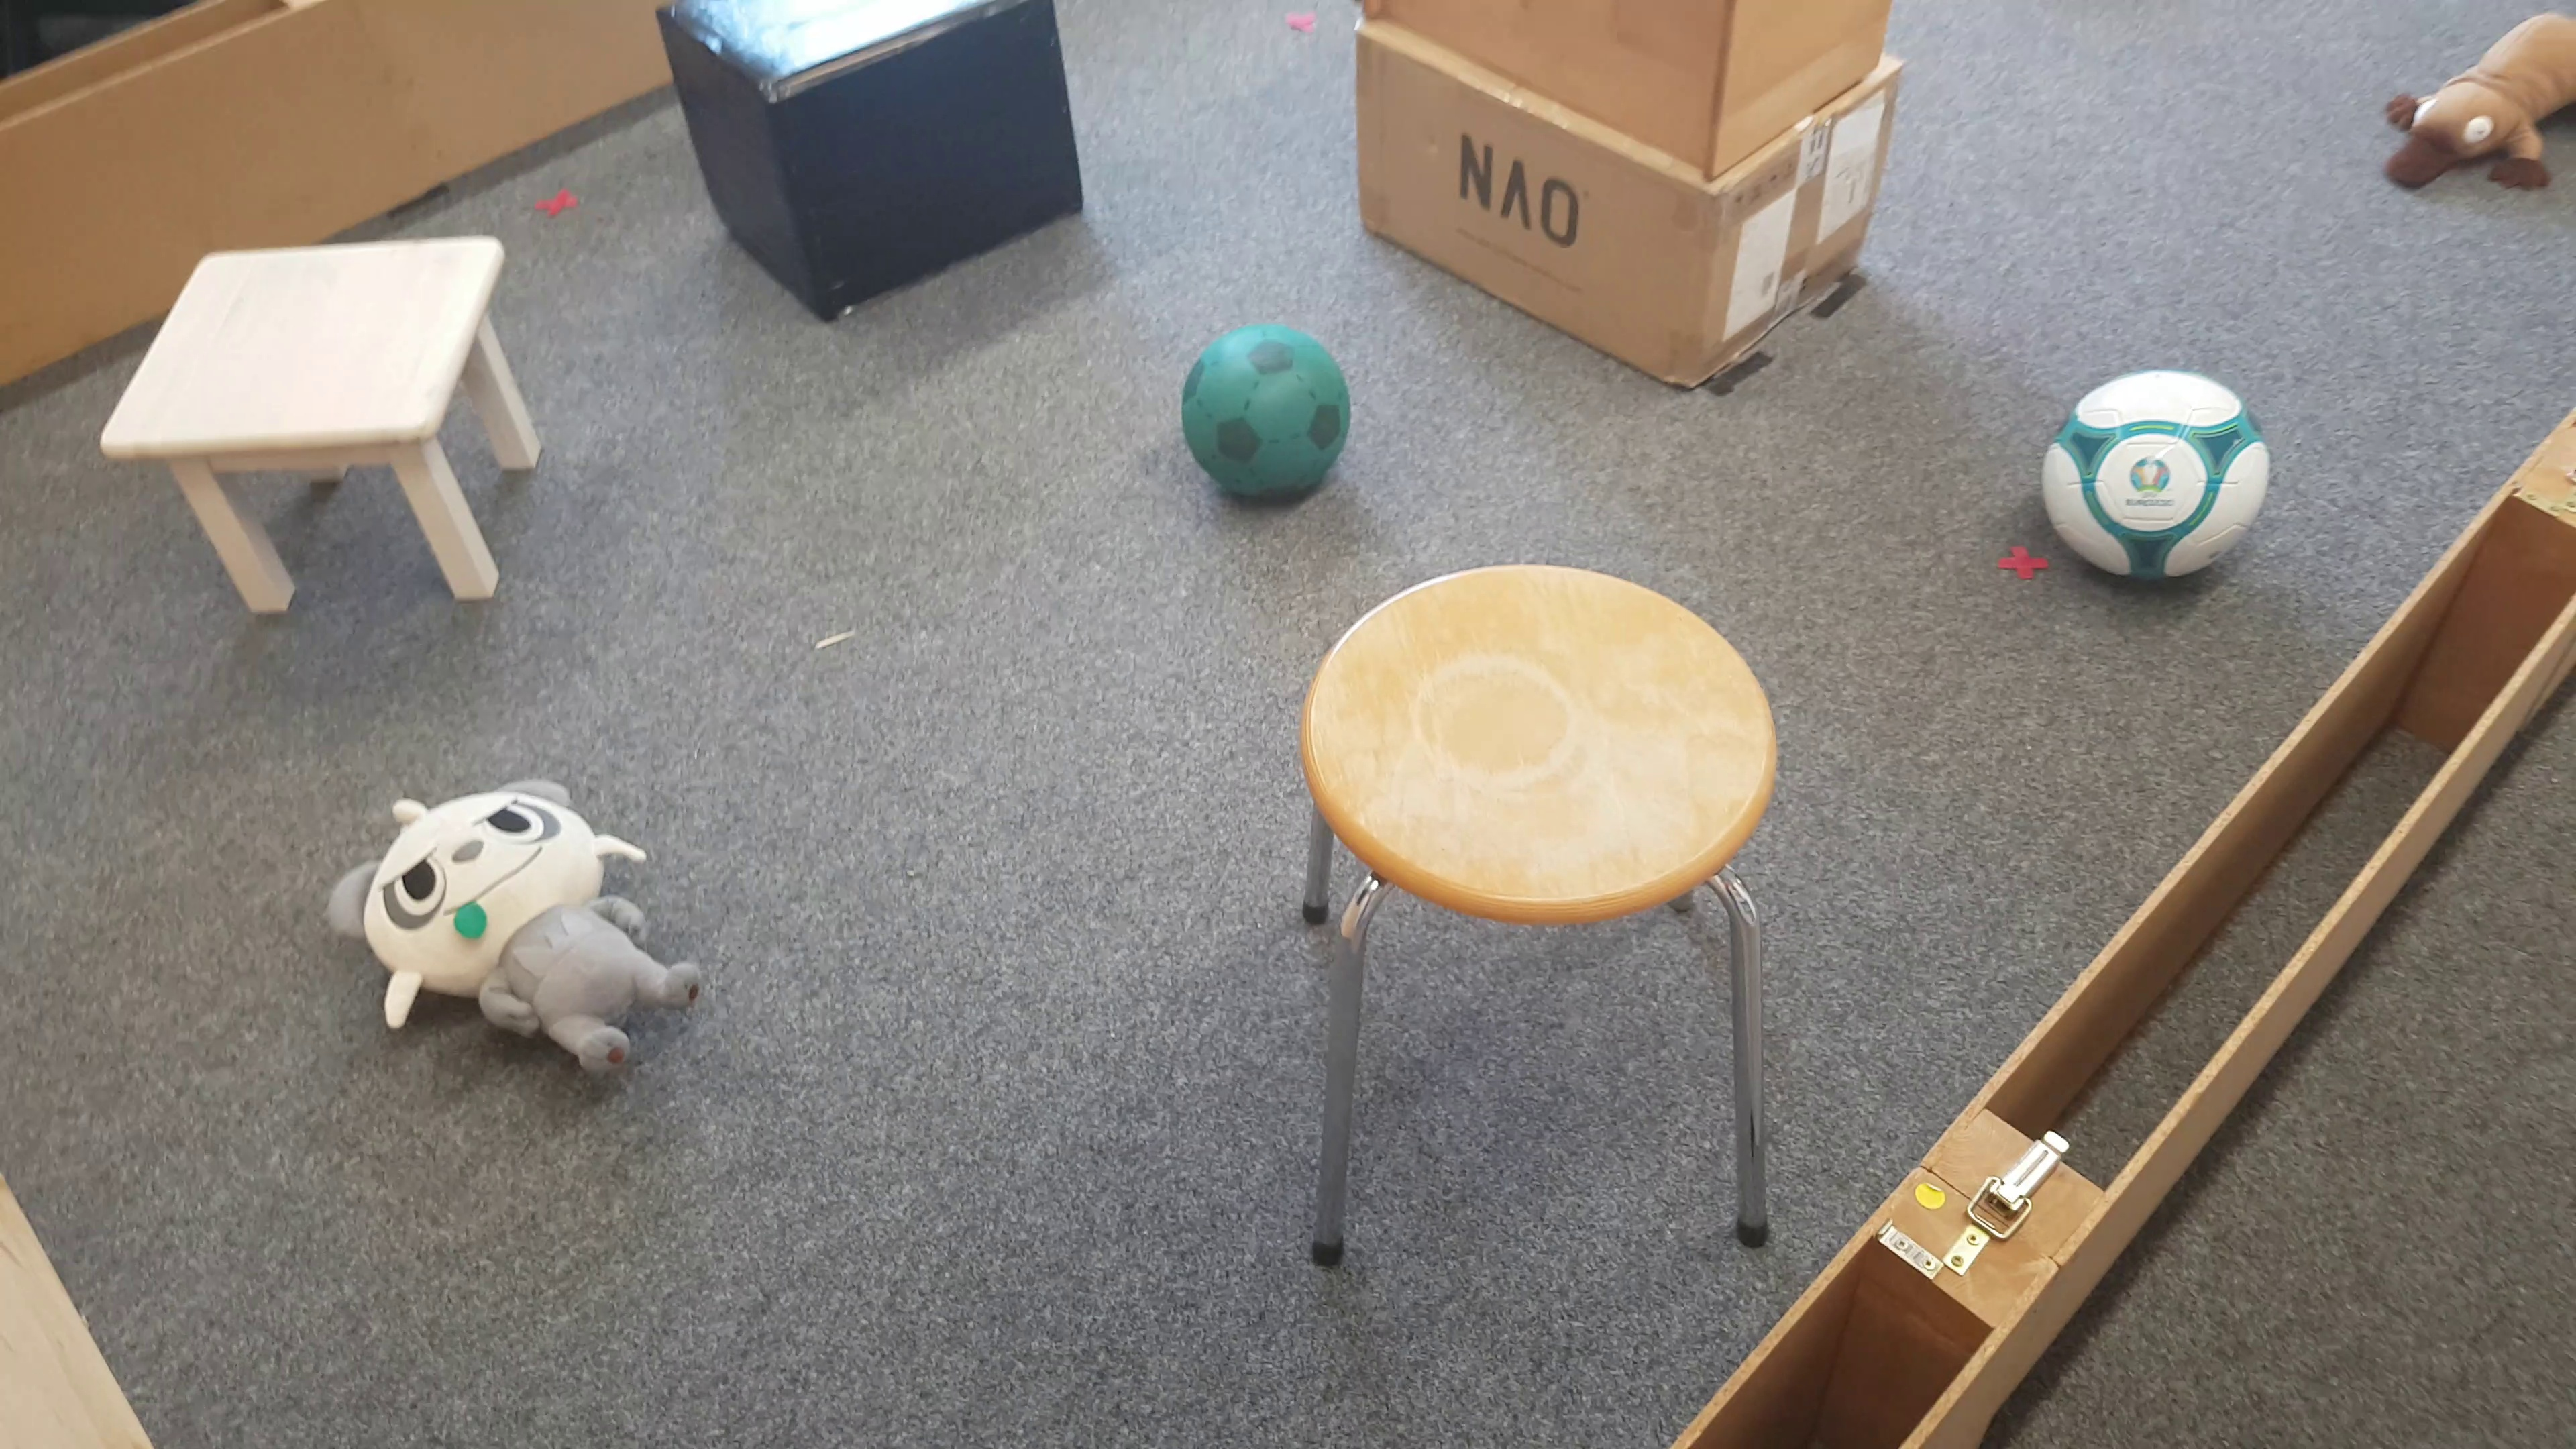grasp: (329, 773, 709, 1092), (2385, 9, 2576, 200)
kick: (2042, 366, 2272, 596), (1185, 329, 1346, 506)
push: (658, 4, 1086, 324)
